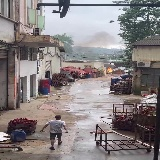fire: (107, 67, 113, 72)
